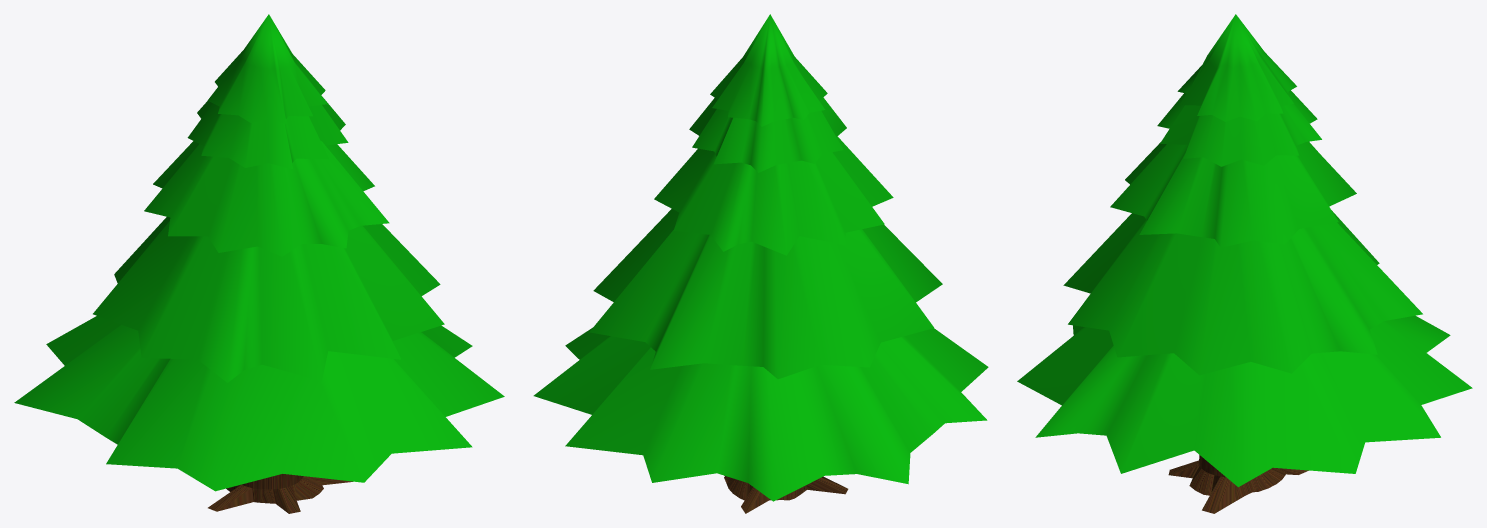
File: tree.fbx
The picture shows the model from 3 angles, left to right: view 1: azimuth 30°, elevation 25°; view 2: azimuth 150°, elevation 25°; view 3: azimuth 270°, elevation 25°; orthographic projection. The views are drawn at different scales.
Parts seen in each view (by area): view 1: Circle; view 2: Circle; view 3: Circle.
Part boxes in pixels (x1,y1,x2,y2): Circle: [14, 14, 504, 513]; Circle: [533, 14, 988, 513]; Circle: [1017, 14, 1472, 513].
Bounding box in the file's own units: 395 × 443 × 396.
